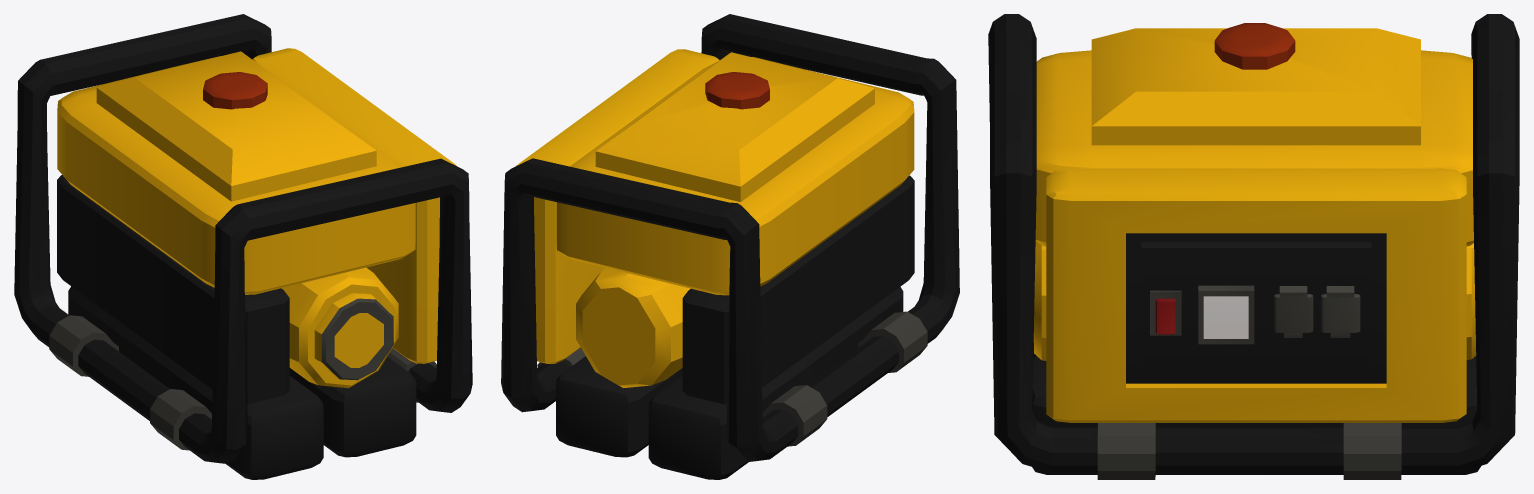
The model's file is jeneratör.fbx.
3 renders of one model, left to right at view 1: azimuth 30°, elevation 25°; view 2: azimuth 150°, elevation 25°; view 3: azimuth 270°, elevation 25°, orthographic. The views are drawn at different scales.
Parts seen in each view (by area): view 1: Cube; view 2: Cube; view 3: Cube.
Boxes of the visible parts, x1,y1,x2,y2 form: Cube: (14, 14, 472, 479); Cube: (501, 14, 959, 479); Cube: (988, 14, 1519, 479).
Bounding box in the file's own units: 175 × 185 × 229.
Materials: 1 (1 with a texture image).
